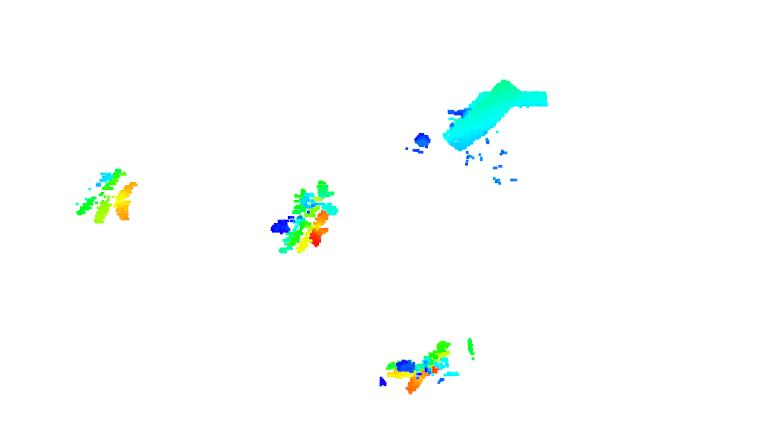chickpea: (375, 334, 482, 397), (268, 177, 341, 258), (74, 167, 140, 227)
